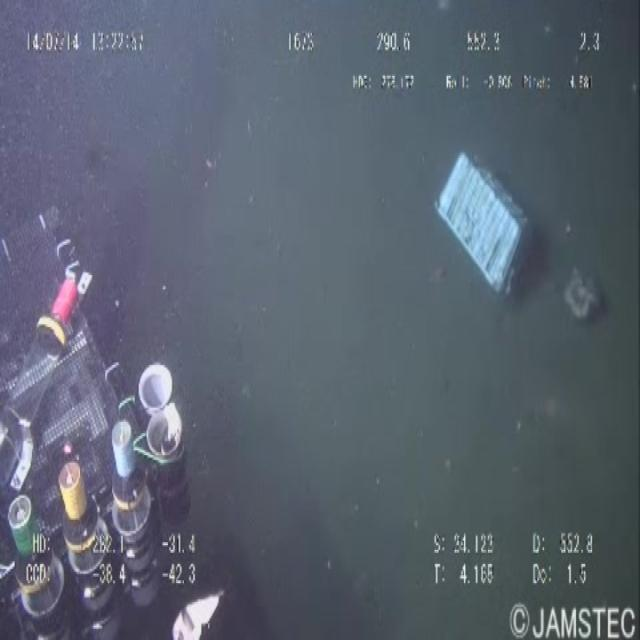Cutlery: (426, 128, 539, 311)
